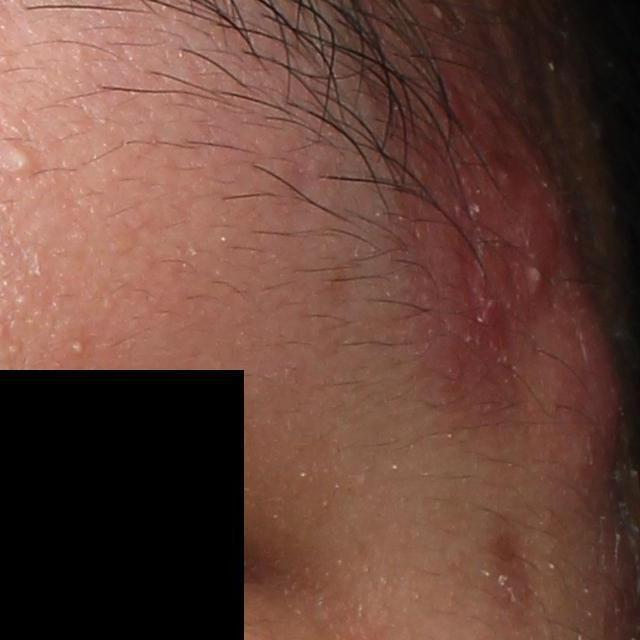atrophic_scar: (478, 509, 548, 624)
comedo: (2, 145, 34, 175)
nodule: (466, 117, 632, 487)
